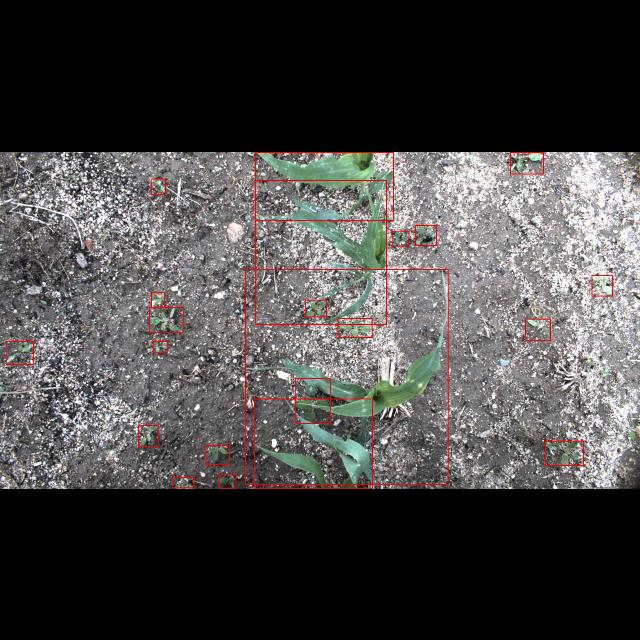crop: (246, 268, 448, 484), (256, 180, 386, 324), (254, 398, 372, 488), (255, 151, 393, 219)
weed: (294, 378, 330, 422), (545, 440, 583, 466), (149, 306, 183, 332), (511, 151, 544, 173), (338, 318, 372, 337), (6, 341, 34, 364), (526, 318, 550, 340), (138, 424, 158, 446), (206, 446, 230, 464), (416, 225, 436, 245), (592, 275, 612, 295), (305, 300, 327, 316), (392, 230, 408, 246), (172, 477, 194, 488), (220, 474, 237, 488), (152, 178, 166, 194), (152, 291, 164, 307), (152, 341, 168, 352)
